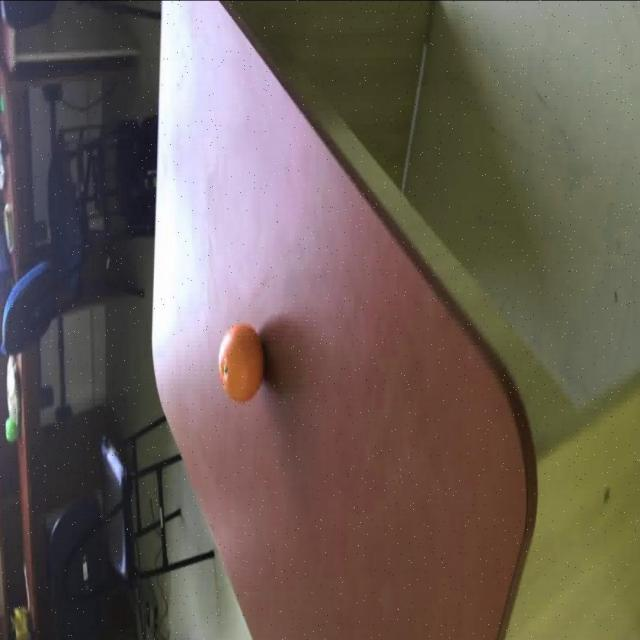Orange: (217, 323, 265, 401), (4, 416, 20, 440)
